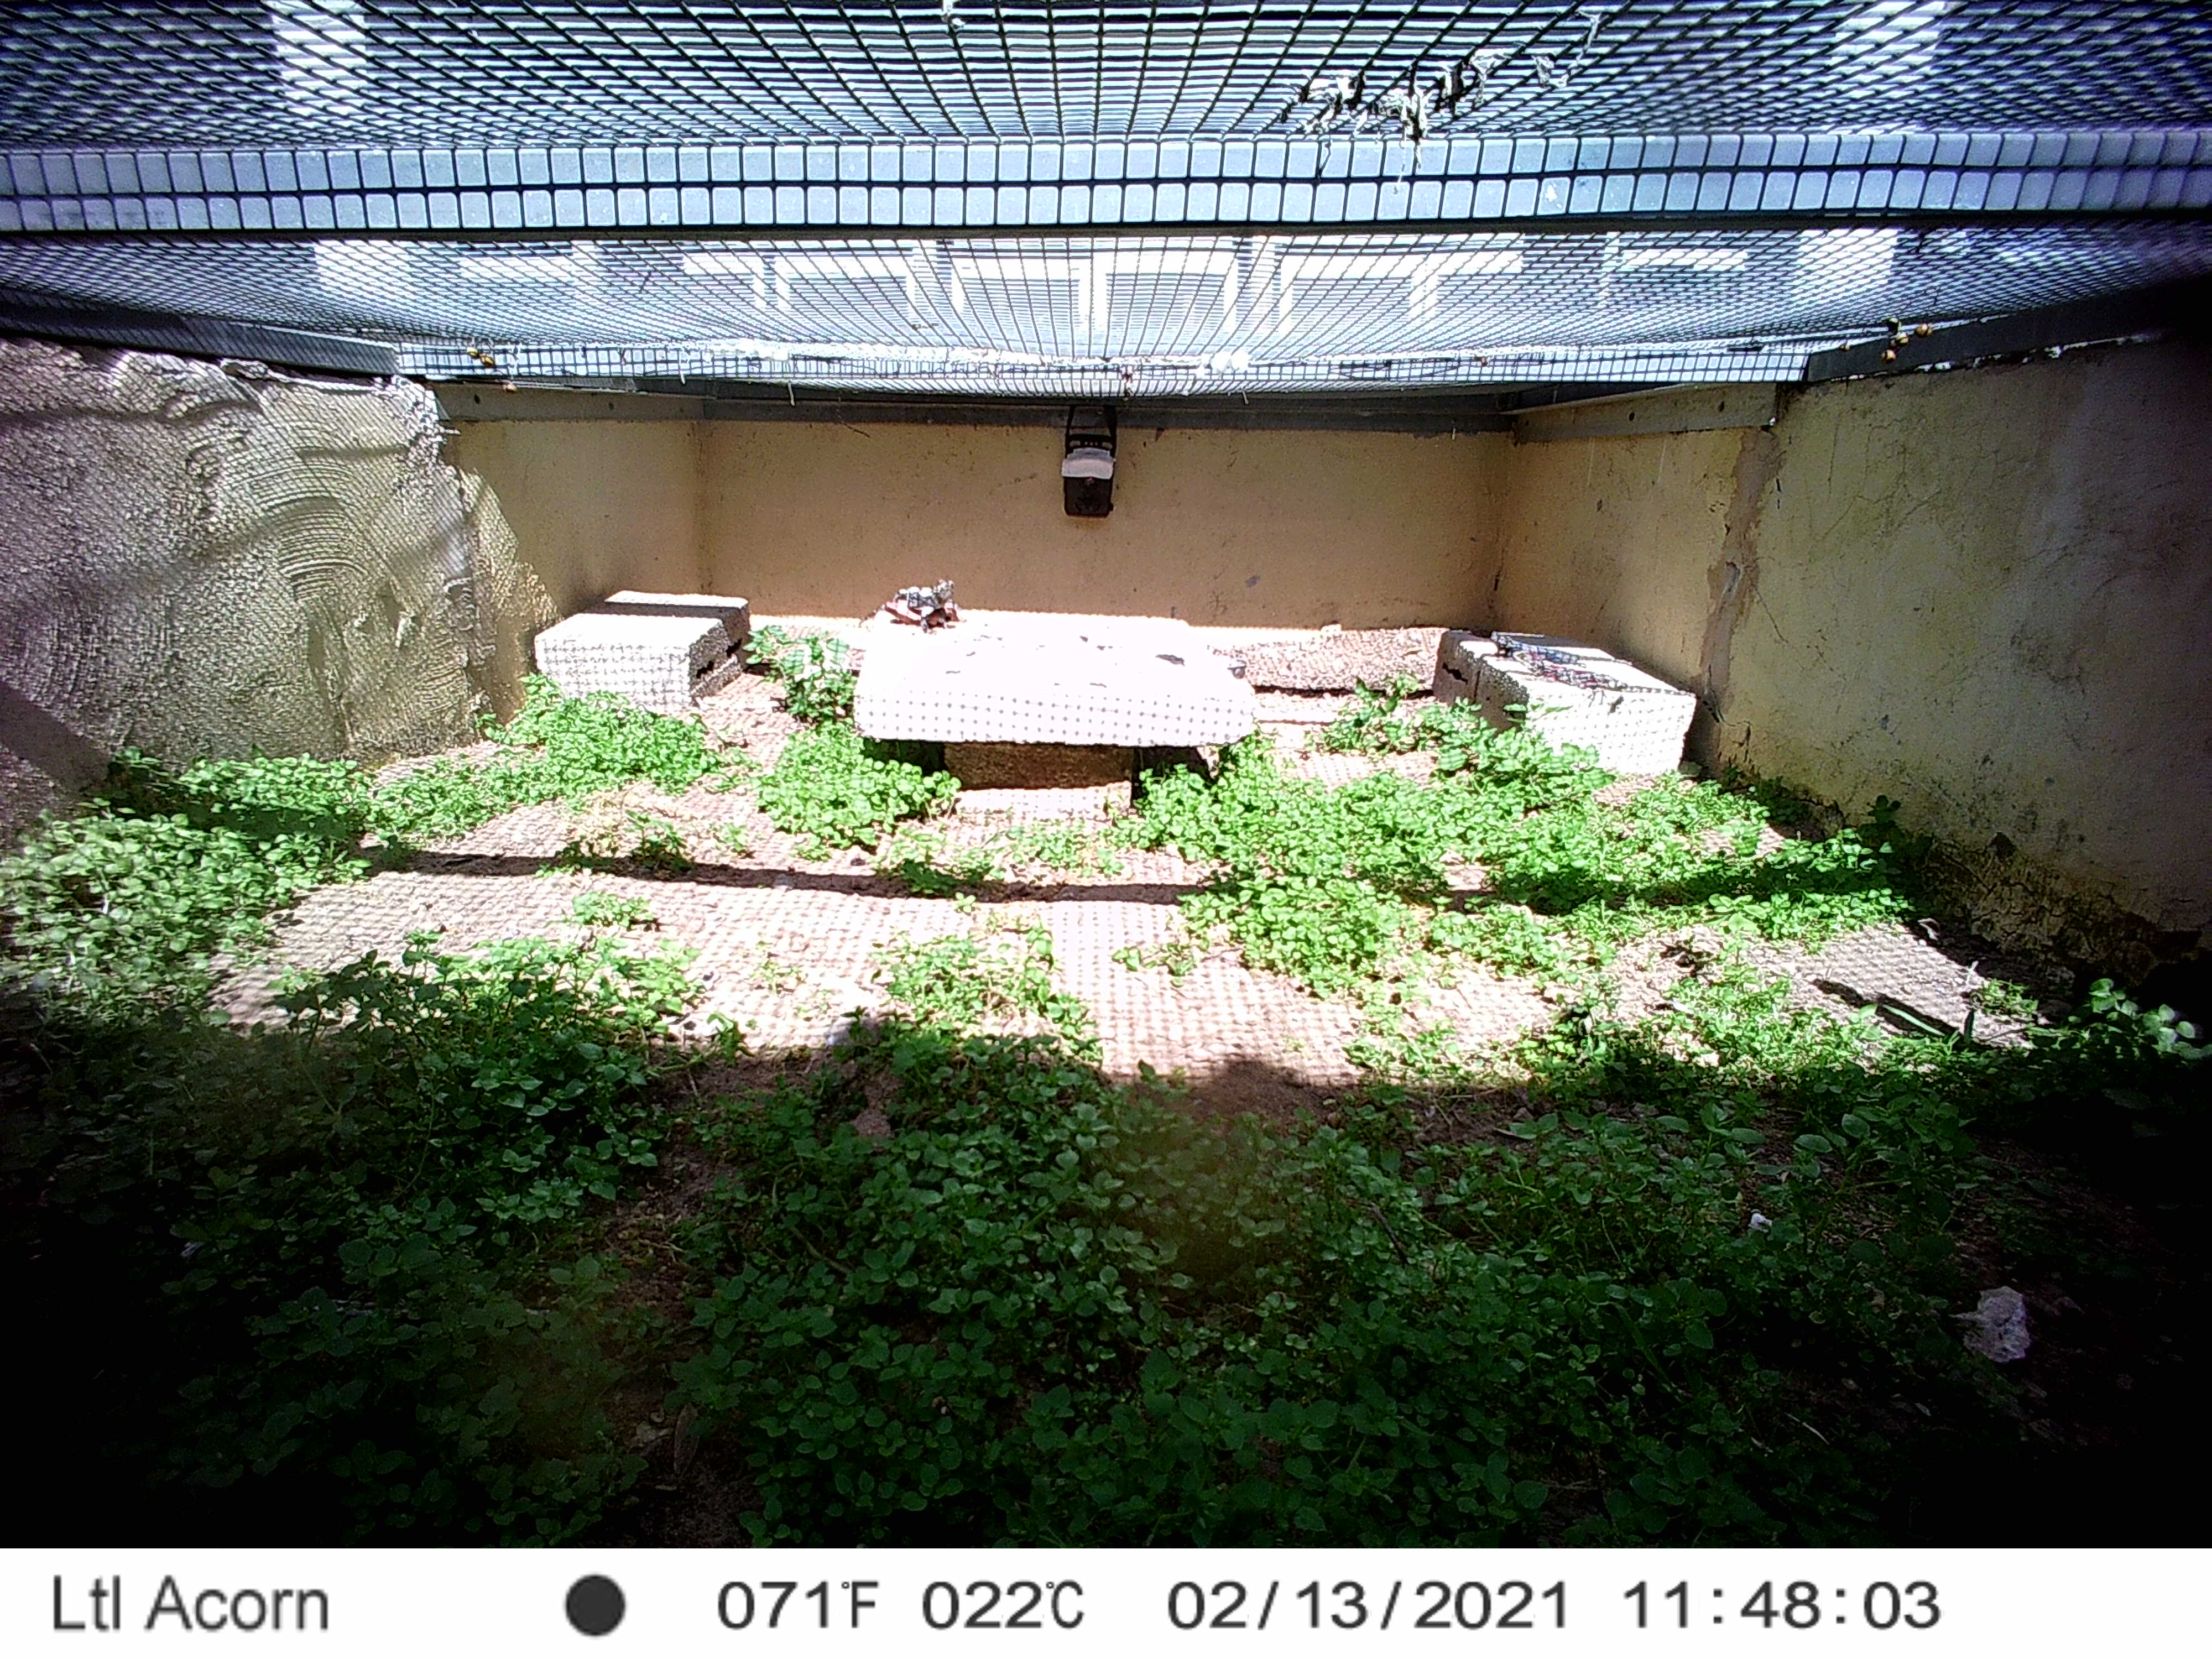lizard: (1491, 631, 1689, 694), (885, 572, 960, 634)
